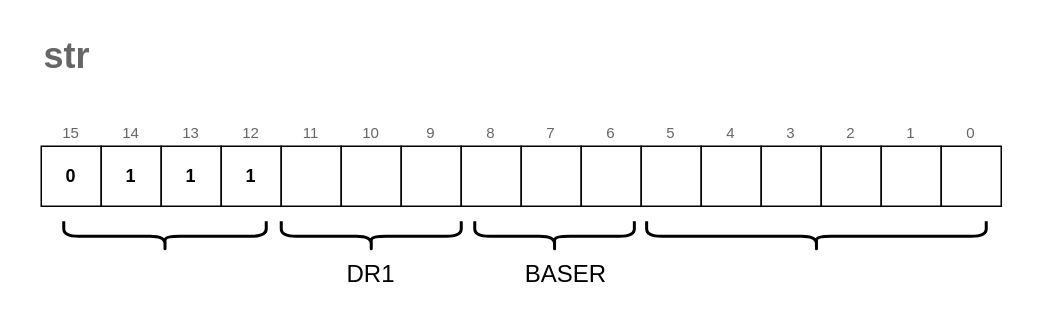
Image size: 1041x336. Some labels were removed from this diagram. Each missing label, with the centre of its shape:
"OFFSET6" belongs at pixel 815 235.
"OpCode" belongs at pixel 164 235.
